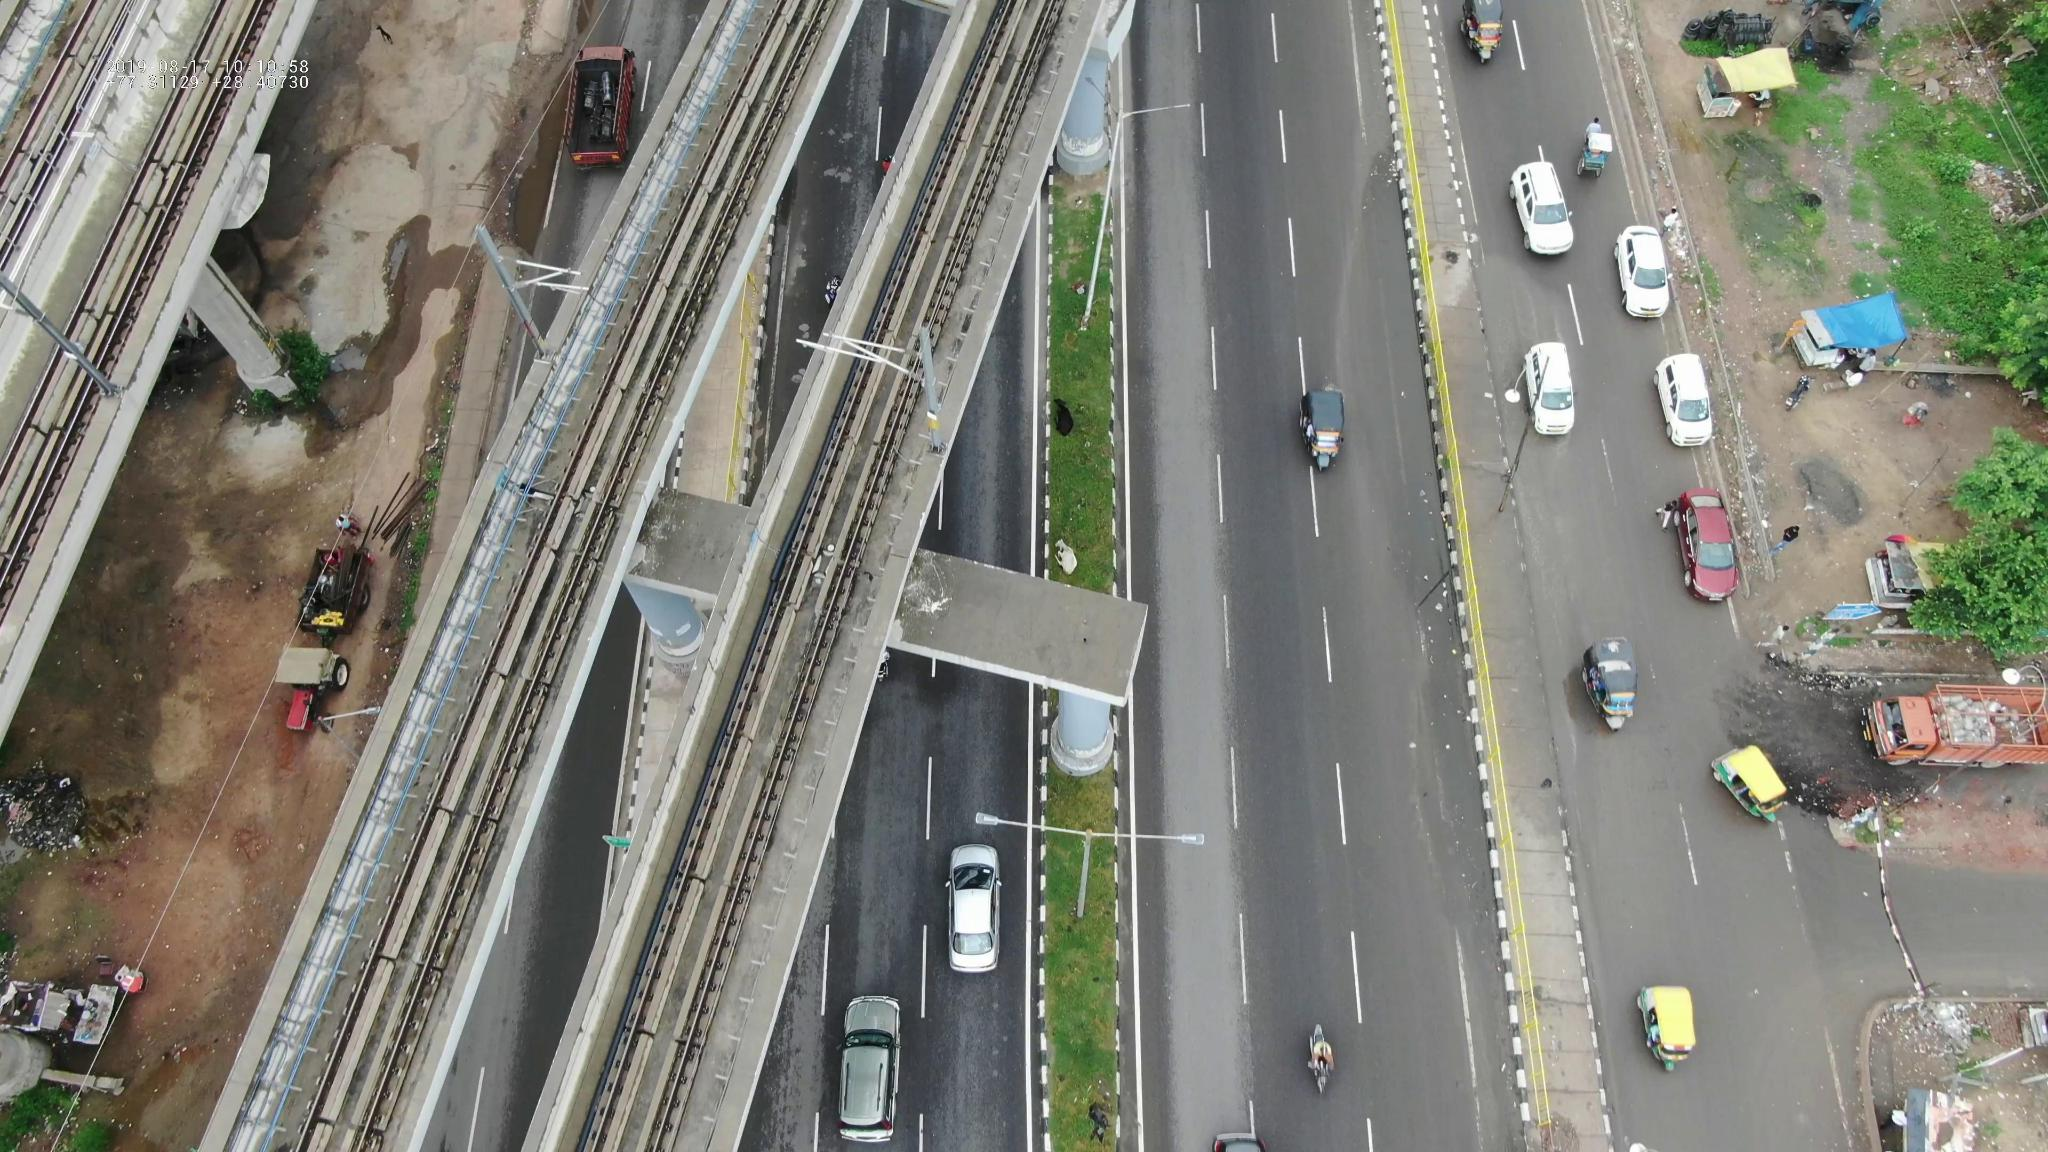Waterlogging: (1352, 143, 1433, 516), (1398, 653, 1498, 933)
